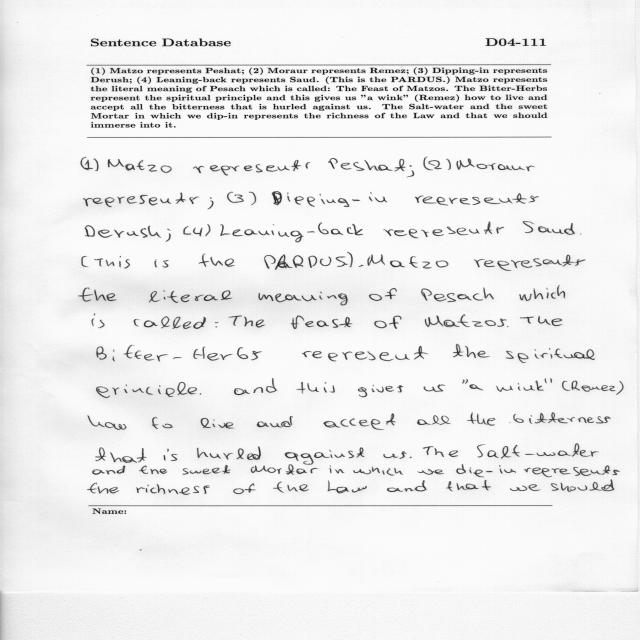word: (220, 223, 363, 243), (97, 345, 262, 362), (384, 222, 505, 239), (302, 346, 428, 361), (193, 160, 310, 176), (477, 444, 599, 459), (474, 255, 585, 271), (97, 382, 202, 398), (415, 193, 539, 206), (287, 192, 387, 207), (285, 447, 365, 465), (264, 254, 348, 270), (506, 348, 595, 363), (324, 413, 396, 430), (258, 292, 348, 305), (524, 465, 620, 477), (368, 255, 449, 269), (510, 413, 611, 424), (421, 288, 494, 303), (149, 290, 232, 303), (425, 314, 507, 327), (84, 195, 172, 207), (328, 158, 406, 171), (85, 225, 161, 238), (134, 316, 206, 329), (197, 446, 261, 460), (136, 484, 210, 495), (96, 447, 146, 463), (291, 316, 352, 329), (456, 465, 516, 478), (551, 480, 614, 492), (522, 221, 575, 235), (251, 464, 318, 475), (520, 285, 566, 301), (234, 378, 277, 395), (496, 380, 544, 392), (88, 415, 126, 430), (358, 385, 403, 397), (79, 288, 117, 302), (453, 344, 490, 358), (446, 480, 491, 491), (572, 381, 616, 392), (183, 465, 231, 475), (199, 254, 235, 267), (296, 382, 335, 394), (328, 481, 367, 493), (387, 480, 426, 492), (477, 163, 535, 171), (137, 160, 172, 173), (353, 467, 403, 476), (94, 256, 130, 268), (229, 316, 265, 328), (520, 316, 563, 326), (257, 416, 293, 427), (273, 482, 309, 493), (423, 446, 458, 457), (467, 413, 496, 426), (369, 288, 397, 301), (201, 418, 234, 429), (88, 483, 120, 494), (375, 316, 402, 329), (417, 415, 451, 425), (93, 465, 126, 475), (176, 193, 199, 204), (81, 157, 99, 171), (152, 417, 173, 429), (423, 157, 442, 170), (233, 484, 256, 494), (139, 466, 167, 474), (510, 484, 540, 491), (456, 159, 475, 170), (227, 192, 244, 203), (384, 451, 407, 459), (92, 314, 104, 328), (424, 384, 445, 392), (164, 449, 178, 461), (417, 469, 444, 475), (108, 159, 125, 167), (272, 192, 282, 205), (155, 259, 169, 268), (330, 466, 345, 474), (616, 381, 624, 395), (407, 165, 415, 178), (470, 384, 484, 391), (249, 192, 256, 205), (193, 228, 203, 237), (347, 252, 353, 267), (562, 381, 571, 391), (208, 197, 214, 210), (184, 226, 192, 235), (125, 164, 135, 171), (82, 256, 88, 267), (166, 229, 171, 242), (206, 224, 211, 236), (446, 159, 451, 170), (545, 378, 552, 383), (462, 379, 468, 384), (215, 323, 218, 328), (359, 265, 364, 267), (409, 457, 412, 458), (580, 234, 581, 235), (507, 326, 508, 327)
